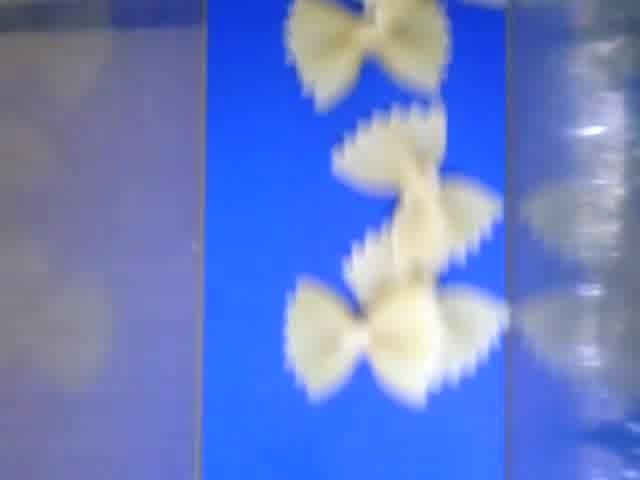farfalle: (331, 100, 501, 277), (343, 224, 514, 385), (281, 274, 447, 406), (279, 1, 449, 112)
